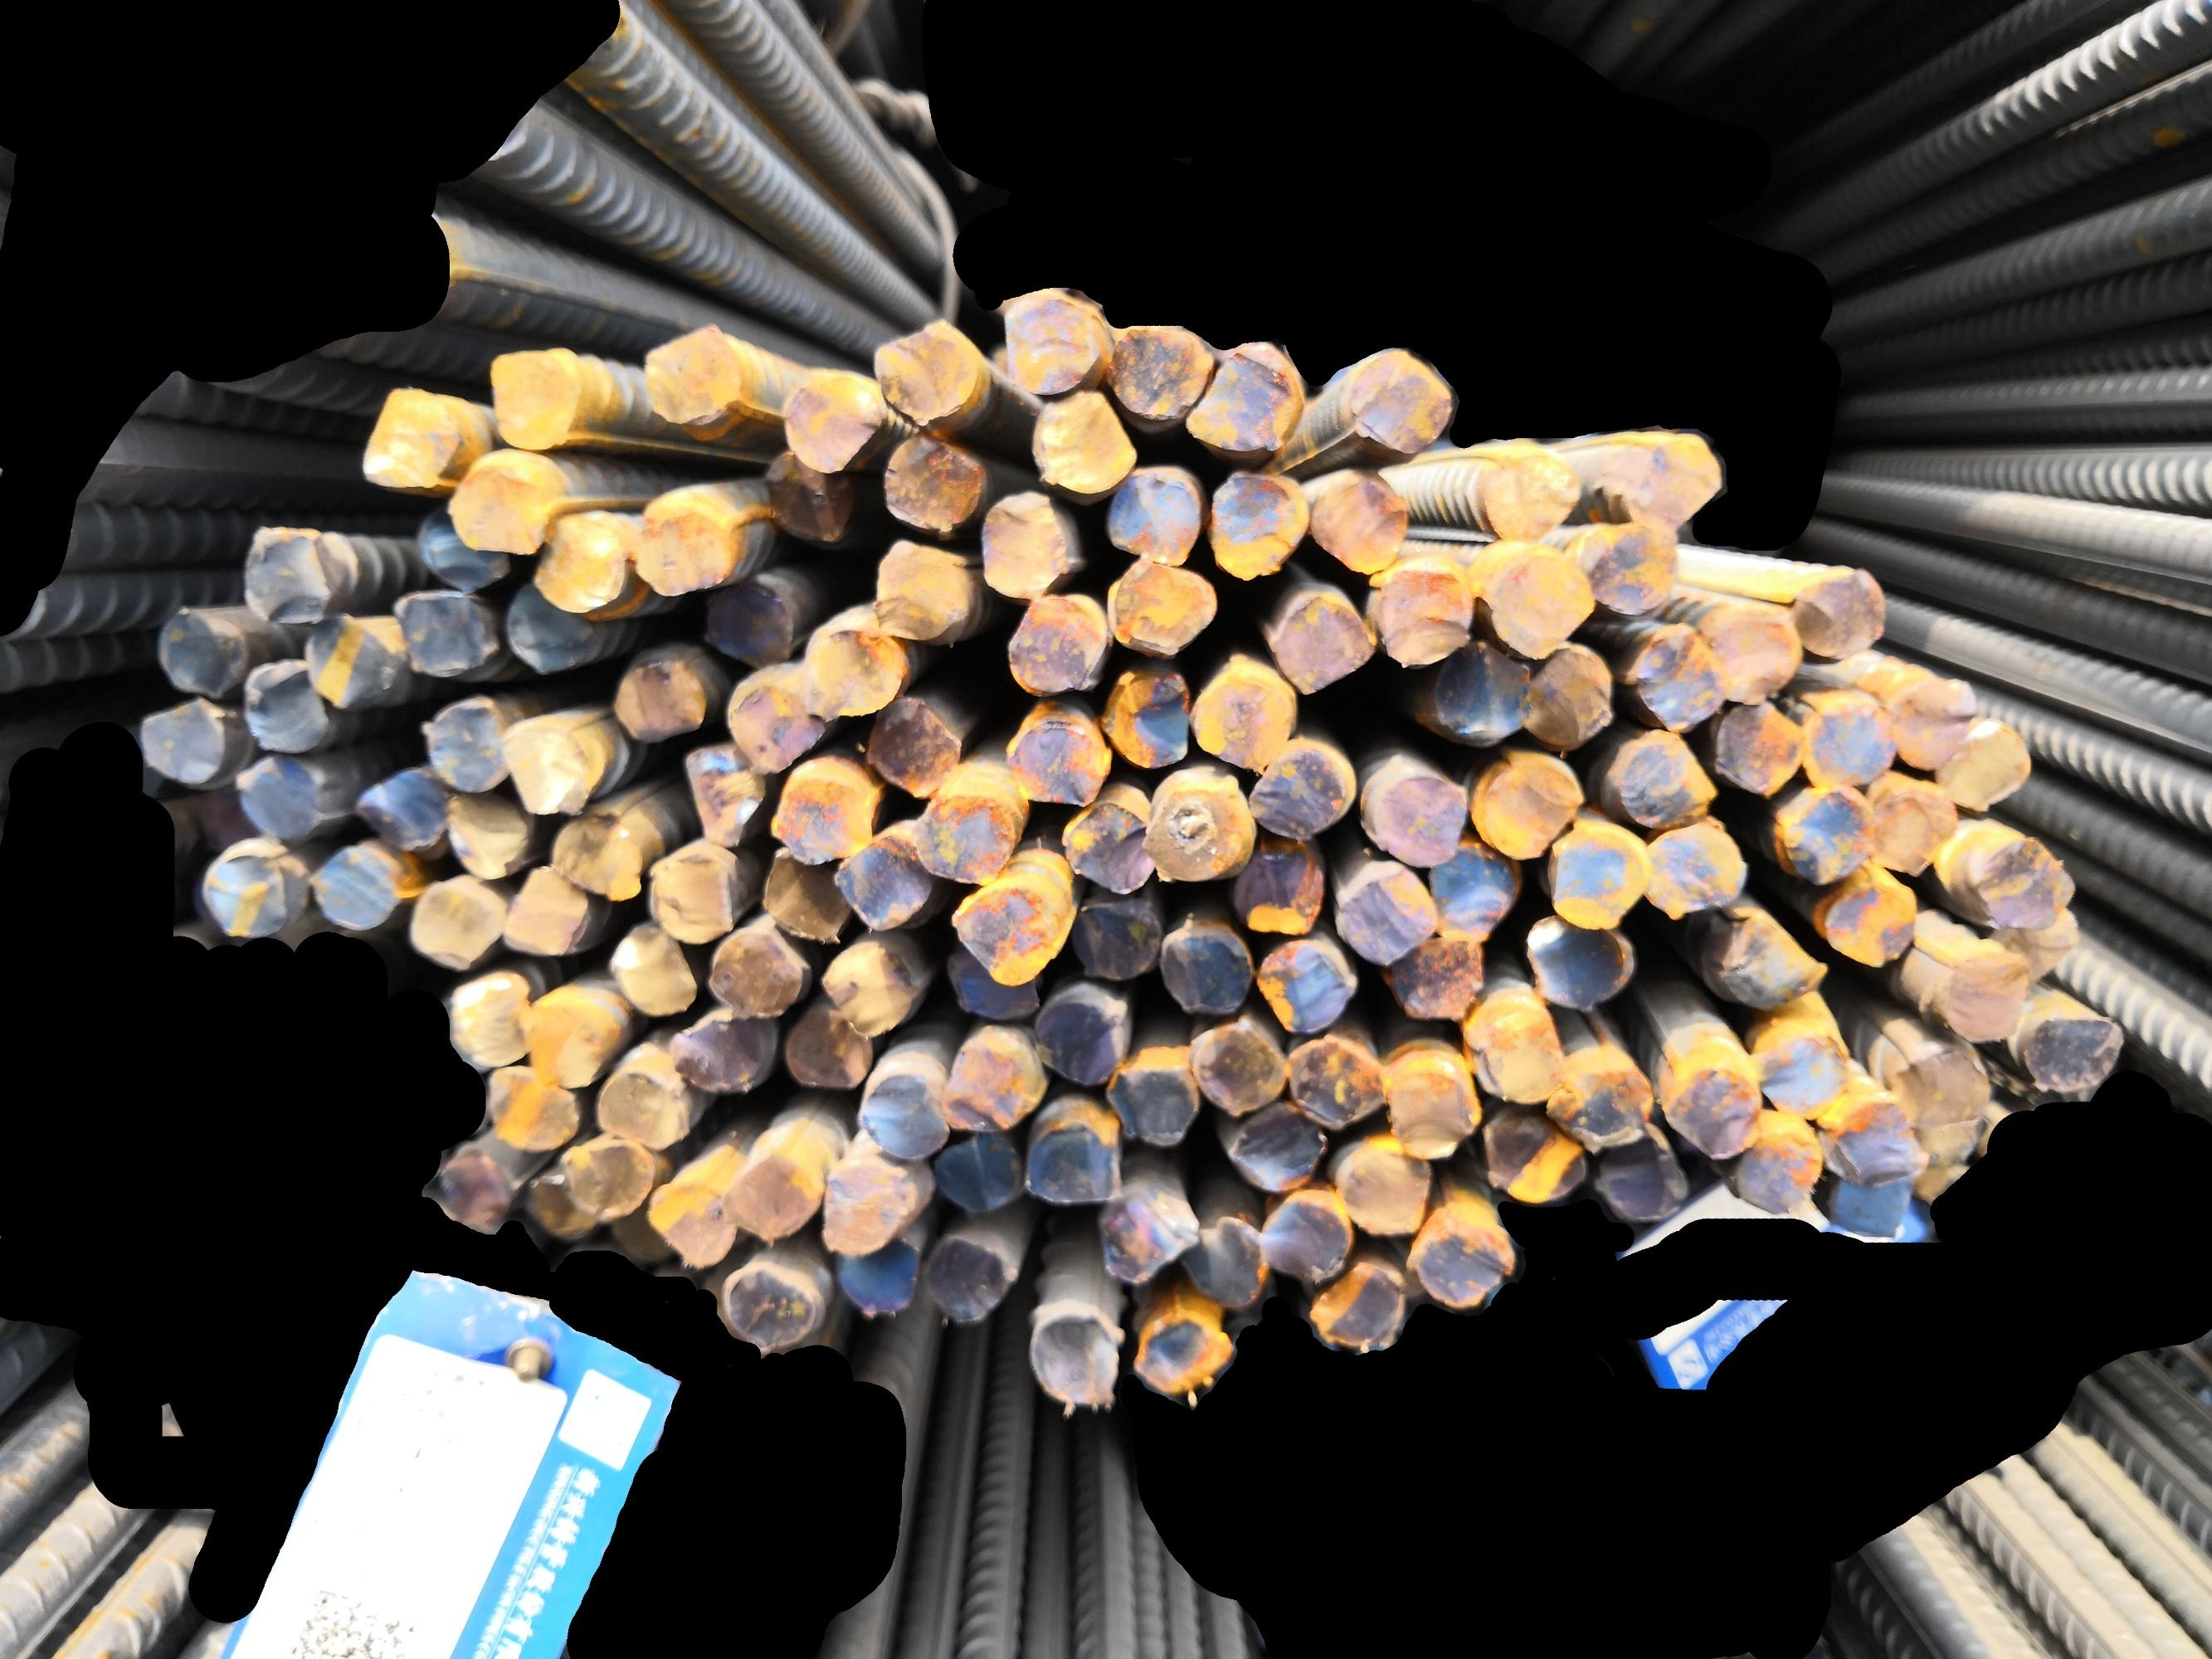bar: (1173, 338, 1310, 462), (947, 864, 1077, 985), (1632, 803, 1747, 927), (1471, 747, 1591, 864), (994, 277, 1110, 398), (1473, 542, 1596, 657), (1185, 653, 1299, 774), (1139, 766, 1254, 887), (1322, 855, 1440, 971), (865, 315, 984, 430), (350, 378, 468, 493), (1708, 896, 1827, 1009), (1260, 581, 1376, 696), (1360, 552, 1477, 666), (910, 776, 1030, 884), (1097, 551, 1218, 659), (1601, 421, 1726, 525), (1541, 822, 1654, 937), (474, 345, 594, 452), (1617, 615, 1724, 736), (980, 482, 1081, 609), (1601, 722, 1720, 829), (791, 611, 908, 719), (777, 359, 884, 477), (1241, 738, 1360, 844), (1104, 317, 1216, 430), (1885, 1022, 1996, 1134), (631, 321, 745, 431), (1474, 1100, 1589, 1209), (1207, 469, 1314, 585), (1030, 384, 1138, 499), (1361, 761, 1471, 872), (1470, 436, 1581, 547), (1416, 635, 1531, 742), (445, 452, 562, 557), (1526, 908, 1636, 1019), (1964, 826, 2074, 937), (195, 836, 305, 947), (505, 983, 616, 1092), (630, 491, 743, 599), (1693, 593, 1802, 703), (1089, 1189, 1205, 1292), (491, 712, 602, 820), (1347, 341, 1451, 456), (1754, 1000, 1855, 1117), (1457, 995, 1566, 1103), (1784, 553, 1889, 665), (1654, 1049, 1760, 1160), (1000, 589, 1104, 701), (1511, 633, 1613, 747), (1323, 1134, 1430, 1243), (1303, 466, 1409, 577), (813, 1155, 918, 1267), (875, 432, 994, 530), (860, 688, 964, 798), (867, 533, 971, 644), (1378, 1048, 1481, 1160), (1861, 764, 1958, 883), (395, 870, 505, 974), (431, 963, 534, 1074), (1406, 1214, 1519, 1315), (491, 579, 607, 677), (1294, 1257, 1411, 1355), (1771, 778, 1877, 885), (1001, 708, 1110, 812), (826, 828, 932, 935), (1809, 866, 1925, 963), (301, 606, 405, 714), (711, 1258, 821, 1361), (1030, 979, 1133, 1089), (1929, 939, 2036, 1044), (1934, 708, 2036, 818), (1710, 1116, 1823, 1214), (660, 1007, 783, 1097), (382, 589, 503, 681), (1791, 684, 1897, 788), (1101, 460, 1205, 567), (543, 806, 650, 909), (1881, 666, 1984, 772), (526, 508, 628, 615), (2025, 1003, 2127, 1110), (768, 762, 878, 861), (1415, 836, 1521, 937), (1251, 937, 1358, 1038), (1025, 1305, 1123, 1413), (821, 939, 923, 1043), (940, 1025, 1046, 1126), (1185, 1019, 1294, 1117), (491, 861, 592, 966), (1153, 914, 1252, 1021), (1584, 513, 1680, 621), (638, 1175, 743, 1274), (1706, 690, 1800, 800), (1827, 1089, 1929, 1190), (1547, 1052, 1652, 1150), (726, 665, 823, 771), (1099, 665, 1194, 772), (1281, 1031, 1391, 1124), (1221, 1102, 1326, 1199), (237, 525, 339, 625), (237, 654, 336, 756), (611, 645, 709, 748), (674, 740, 768, 846), (706, 569, 803, 672), (758, 443, 852, 548), (719, 1146, 825, 1240), (704, 923, 805, 1022), (754, 848, 850, 950), (1129, 1313, 1239, 1403), (148, 601, 252, 695), (228, 754, 336, 844), (918, 1234, 1018, 1331), (1382, 932, 1487, 1025), (779, 997, 875, 1097), (1059, 791, 1153, 893), (855, 1068, 952, 1168), (639, 848, 738, 943), (1257, 1190, 1352, 1287), (603, 919, 696, 1019), (435, 786, 532, 881), (479, 1059, 579, 1151), (588, 1061, 689, 1152), (309, 839, 403, 935), (415, 696, 509, 792), (1235, 842, 1328, 941), (924, 1126, 1025, 1216), (133, 696, 227, 792), (1062, 894, 1163, 983), (1583, 1136, 1684, 1224), (350, 764, 449, 854), (831, 1232, 930, 1321), (1021, 1118, 1123, 1204), (1182, 1211, 1266, 1315), (553, 1134, 656, 1219), (938, 943, 1042, 1025), (1108, 1049, 1194, 1150), (423, 1144, 514, 1235), (1990, 901, 2088, 983), (407, 512, 509, 586), (522, 1169, 603, 1247), (1829, 1175, 1915, 1243), (1920, 1110, 1990, 1174), (602, 1202, 668, 1263)
